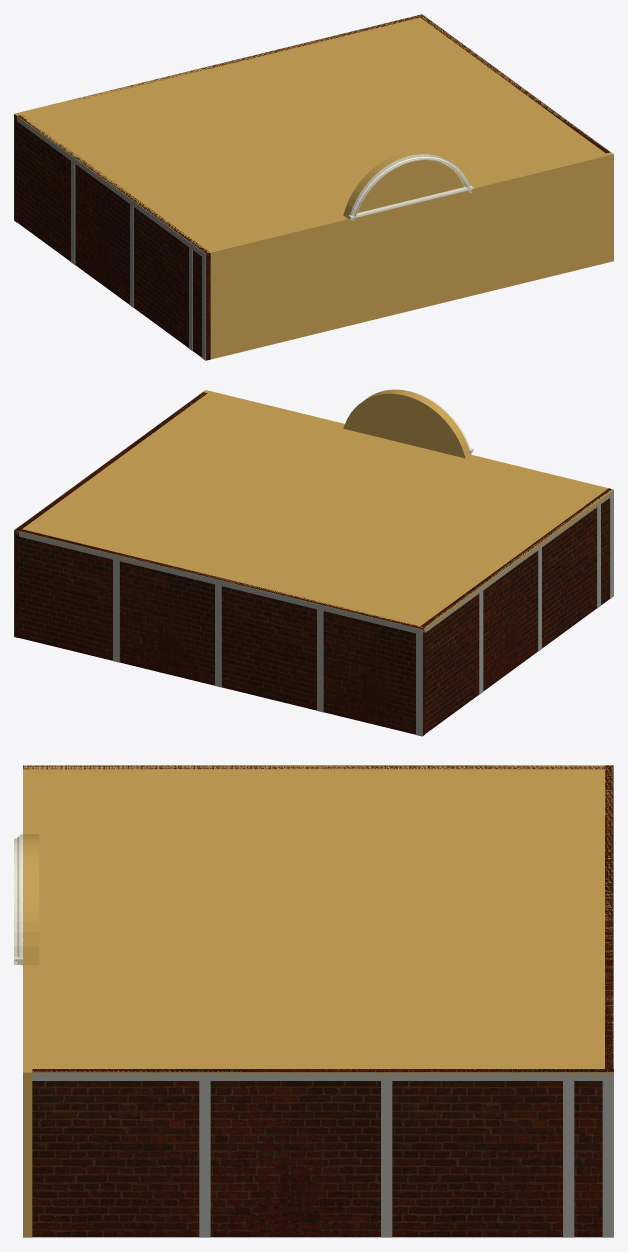
The model's file is building.glb.
The picture shows the model from 3 angles, top to bottom: view 1: azimuth 30°, elevation 25°; view 2: azimuth 150°, elevation 25°; view 3: azimuth 270°, elevation 25°; orthographic projection. The views are drawn at different scales.
Parts seen in each view (by area): view 1: roof/house:0/roof_slab#0001, house:0/edge0/z0/house:0/edge0/z0/wall_0_0, house:0/edge3/z0/house:0/edge3/z0/wall_0_0, crown/coronamiento/crown_body#0001, house:0/edge2/z0/house:0/edge2/z0/wall_0_0, house:0/edge3/z0/house:0/edge3/z0/beam_0_0, crown/coronamiento/crown_moulding#0001, house:0/edge1/z0/house:0/edge1/z0/wall_0_0, crown/coronamiento/crown_base_cornice#0001, house:0/edge3/z0/house:0/edge3/z0/column_2_0; view 2: roof/house:0/roof_slab#0001, house:0/edge2/z0/house:0/edge2/z0/wall_0_0, house:0/edge3/z0/house:0/edge3/z0/wall_0_0, crown/coronamiento/crown_body#0001, house:0/edge2/z0/house:0/edge2/z0/beam_0_0, house:0/edge1/z0/house:0/edge1/z0/wall_0_0, house:0/edge0/z0/house:0/edge0/z0/wall_0_0, house:0/edge3/z0/house:0/edge3/z0/beam_0_0, house:0/edge2/z0/house:0/edge2/z0/column_2_0, house:0/edge2/z0/house:0/edge2/z0/column_4_0, house:0/edge2/z0/house:0/edge2/z0/column_1_0, house:0/edge2/z0/house:0/edge2/z0/column_3_0 (+1 smaller); view 3: roof/house:0/roof_slab#0001, house:0/edge1/z0/house:0/edge1/z0/wall_0_0, house:0/edge1/z0/house:0/edge1/z0/beam_0_0, house:0/edge0/z0/house:0/edge0/z0/wall_0_0, house:0/edge2/z0/house:0/edge2/z0/wall_0_0, house:0/edge3/z0/house:0/edge3/z0/wall_0_0, crown/coronamiento/crown_body#0001, house:0/edge1/z0/house:0/edge1/z0/column_1_0, house:0/edge1/z0/house:0/edge1/z0/column_2_0, house:0/edge1/z0/house:0/edge1/z0/column_3_0, house:0/edge1/z0/house:0/edge1/z0/column_4_0, crown/coronamiento/crown_moulding#0001.
Boxes of the visible parts, box(x1,y1,x2,y2) form: roof/house:0/roof_slab#0001: box(14, 14, 613, 254); house:0/edge0/z0/house:0/edge0/z0/wall_0_0: box(208, 152, 613, 359); house:0/edge3/z0/house:0/edge3/z0/wall_0_0: box(17, 115, 210, 360); crown/coronamiento/crown_body#0001: box(343, 150, 465, 218); house:0/edge2/z0/house:0/edge2/z0/wall_0_0: box(14, 15, 419, 222); house:0/edge3/z0/house:0/edge3/z0/beam_0_0: box(17, 116, 205, 259); crown/coronamiento/crown_moulding#0001: box(349, 154, 471, 221); house:0/edge1/z0/house:0/edge1/z0/wall_0_0: box(418, 14, 609, 153); crown/coronamiento/crown_base_cornice#0001: box(348, 185, 473, 219); house:0/edge3/z0/house:0/edge3/z0/column_2_0: box(71, 161, 75, 264); roof/house:0/roof_slab#0001: box(14, 390, 613, 632); house:0/edge2/z0/house:0/edge2/z0/wall_0_0: box(19, 529, 425, 735); house:0/edge3/z0/house:0/edge3/z0/wall_0_0: box(420, 488, 611, 733); crown/coronamiento/crown_body#0001: box(343, 390, 469, 458); house:0/edge2/z0/house:0/edge2/z0/beam_0_0: box(19, 531, 422, 634); house:0/edge1/z0/house:0/edge1/z0/wall_0_0: box(14, 392, 207, 637); house:0/edge0/z0/house:0/edge0/z0/wall_0_0: box(203, 390, 608, 490); house:0/edge3/z0/house:0/edge3/z0/beam_0_0: box(425, 489, 613, 632); house:0/edge2/z0/house:0/edge2/z0/column_2_0: box(113, 559, 119, 662); house:0/edge2/z0/house:0/edge2/z0/column_4_0: box(317, 609, 323, 712); house:0/edge2/z0/house:0/edge2/z0/column_1_0: box(416, 633, 422, 736); house:0/edge2/z0/house:0/edge2/z0/column_3_0: box(215, 584, 221, 687); roof/house:0/roof_slab#0001: box(23, 765, 613, 1078); house:0/edge1/z0/house:0/edge1/z0/wall_0_0: box(32, 1069, 613, 1237); house:0/edge1/z0/house:0/edge1/z0/beam_0_0: box(32, 1072, 613, 1080); house:0/edge0/z0/house:0/edge0/z0/wall_0_0: box(23, 769, 32, 1237); house:0/edge2/z0/house:0/edge2/z0/wall_0_0: box(605, 765, 613, 1068); house:0/edge3/z0/house:0/edge3/z0/wall_0_0: box(23, 765, 604, 769); crown/coronamiento/crown_body#0001: box(25, 834, 39, 965); house:0/edge1/z0/house:0/edge1/z0/column_1_0: box(602, 1081, 613, 1237); house:0/edge1/z0/house:0/edge1/z0/column_2_0: box(199, 1081, 210, 1237); house:0/edge1/z0/house:0/edge1/z0/column_3_0: box(381, 1081, 392, 1237); house:0/edge1/z0/house:0/edge1/z0/column_4_0: box(563, 1081, 574, 1237); crown/coronamiento/crown_moulding#0001: box(14, 834, 23, 964).
Bounding box in the file's own units: 16 × 5.8 × 13.2.
Materials: 4 (1 with a texture image).
